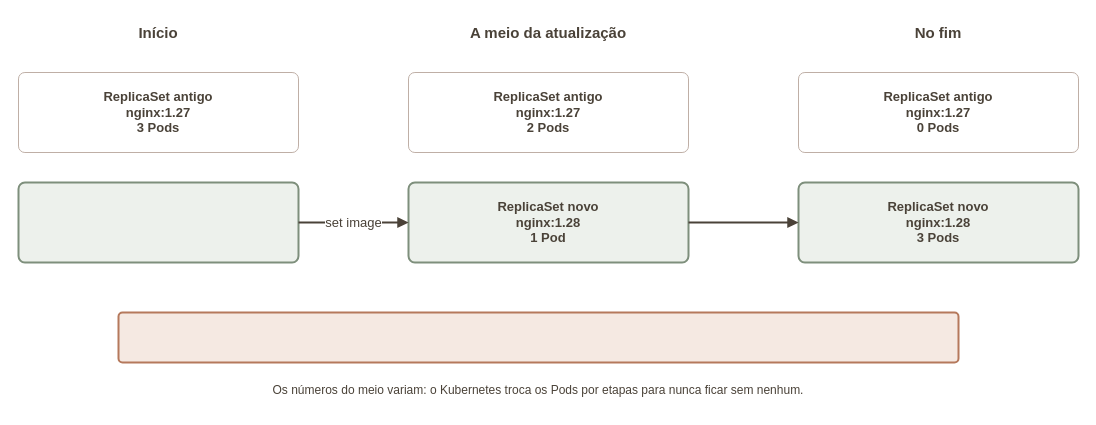
Image size: 1096x425. Some labels were removed from this diagram. Here are the shapes that lost their labels. From the top down, the box of each, then its label:
(17, 181, 299, 263): ReplicaSet novo nginx:1.28 0 Pods
(117, 311, 959, 363): kubectl rollout undo volta ao ReplicaSet antigo, sem recriar tudo do zero.
